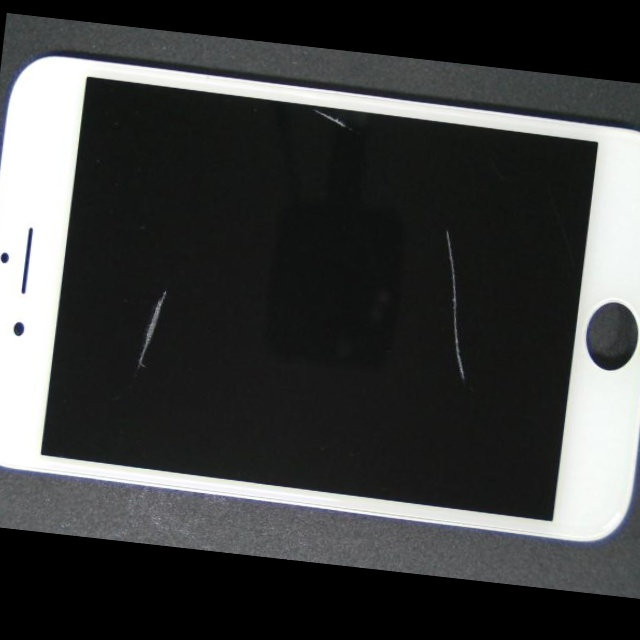scratch: (238, 277, 640, 482), (28, 246, 252, 513), (194, 76, 519, 165)
